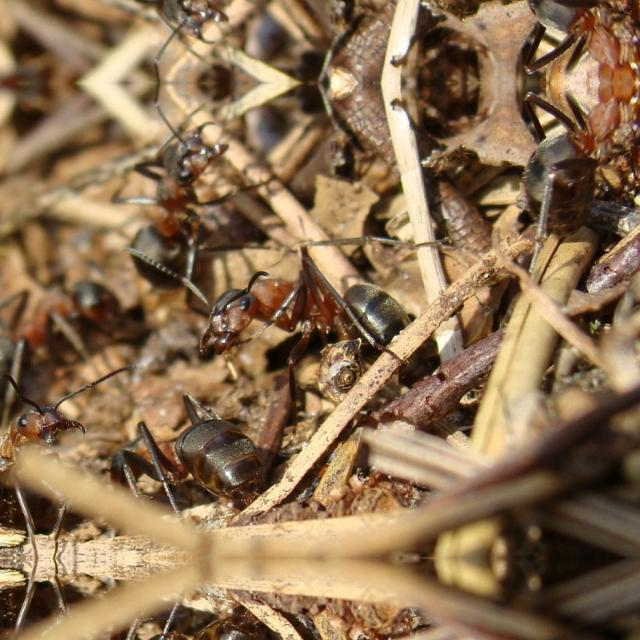Formica: (170, 246, 438, 378), (98, 374, 258, 510), (114, 132, 260, 280), (489, 95, 639, 223), (0, 337, 114, 489), (489, 0, 639, 68), (96, 604, 258, 640), (114, 0, 258, 32)
